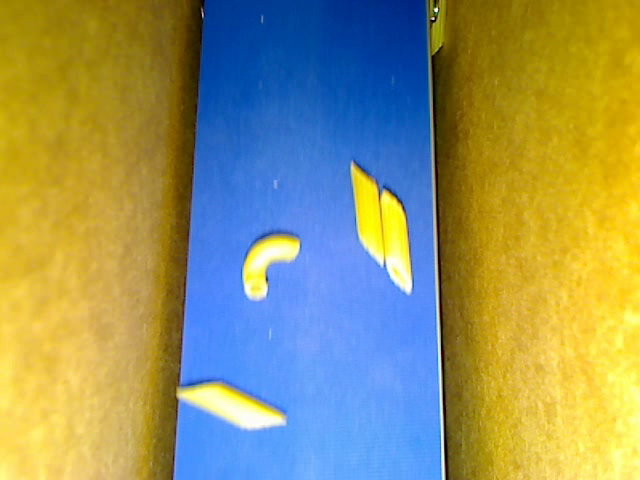elbow: (244, 225, 301, 299)
penne: (167, 374, 285, 433), (346, 158, 384, 269), (380, 191, 415, 294)
